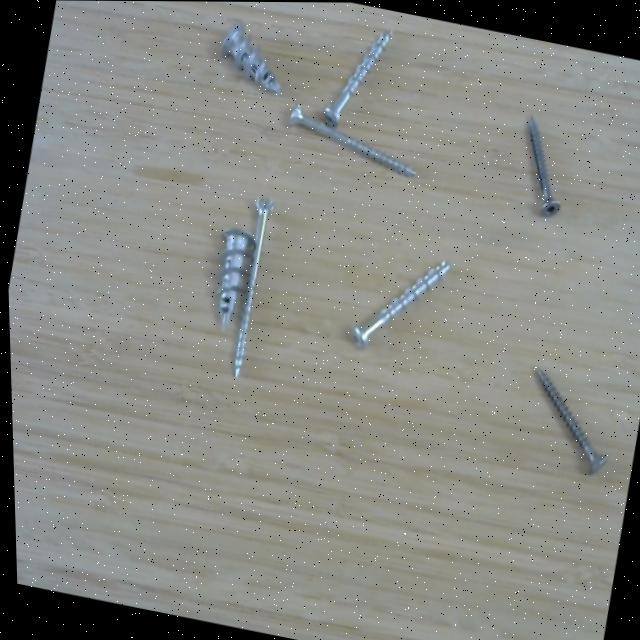Black screw: (504, 354, 629, 487), (498, 103, 582, 234)
Long screw: (275, 99, 438, 184), (218, 186, 285, 385)
Medium screw: (339, 236, 458, 371), (314, 12, 400, 138)
Short screw: (195, 214, 263, 346), (209, 11, 294, 100)
